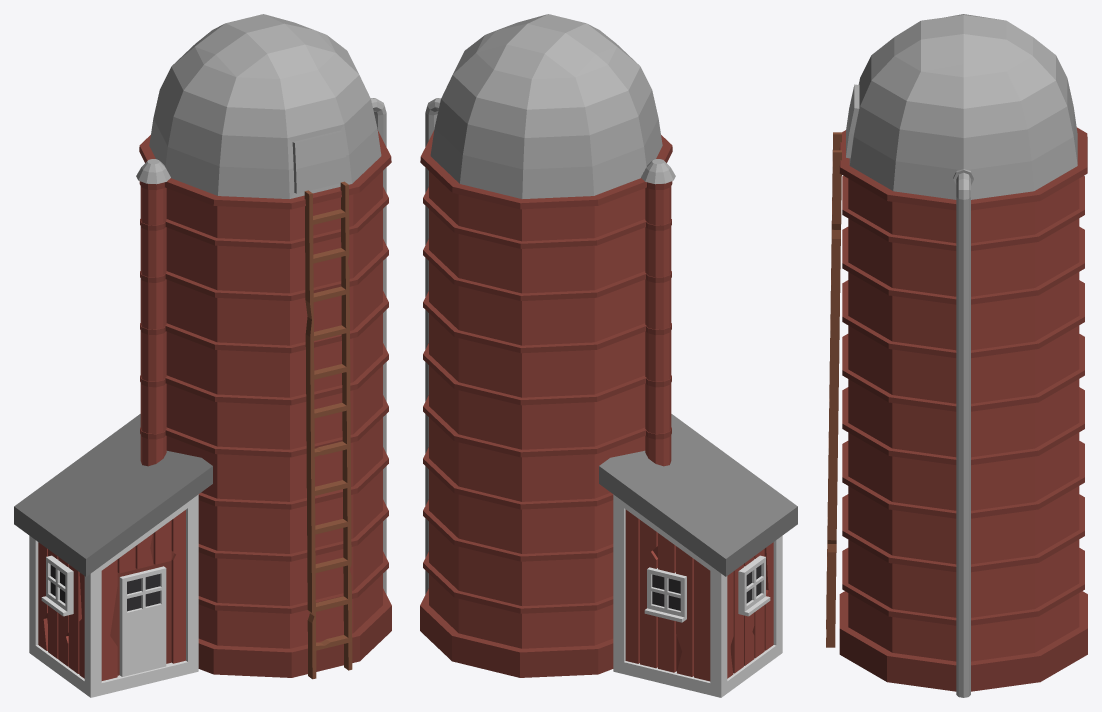
File: silo_house.glb
The picture shows the model from 3 angles, left to right: view 1: azimuth 30°, elevation 25°; view 2: azimuth 150°, elevation 25°; view 3: azimuth 270°, elevation 25°; orthographic projection. The views are drawn at different scales.
Parts seen in each view (by area): view 1: Silo_House; view 2: Silo_House; view 3: Silo_House.
Boxes of the visible parts, box(x1,y1,x2,y2) form: Silo_House: box(14, 14, 391, 697); Silo_House: box(420, 14, 797, 697); Silo_House: box(826, 14, 1087, 697).
Bounding box in the file's own units: 5.34 × 9.07 × 3.51.
